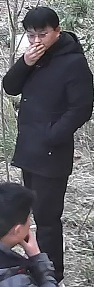smoking: (0, 180, 45, 276), (14, 4, 69, 82)
